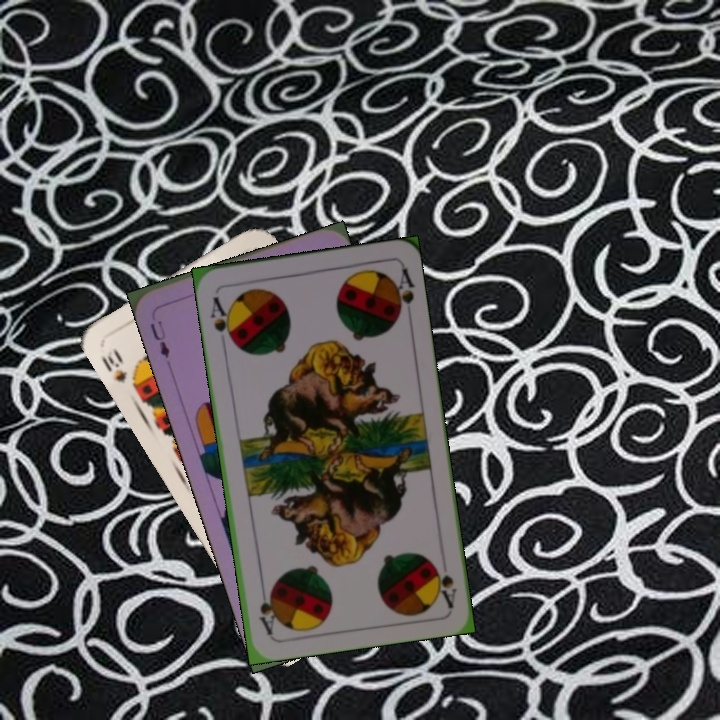EU: (145, 316, 173, 361)
S10: (97, 344, 130, 387)
SA: (206, 292, 237, 347), (429, 558, 460, 609)
